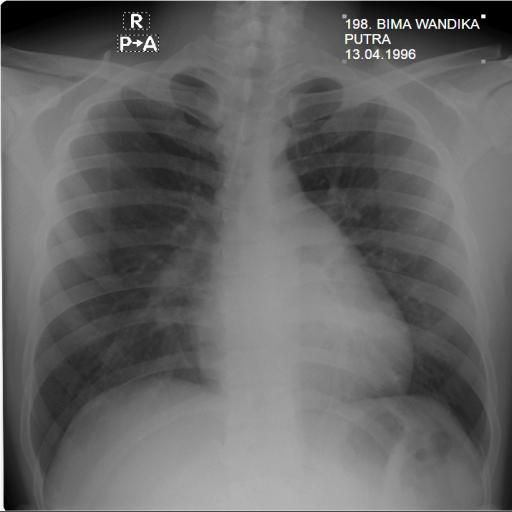kardiomegali: (24, 36, 502, 490)
